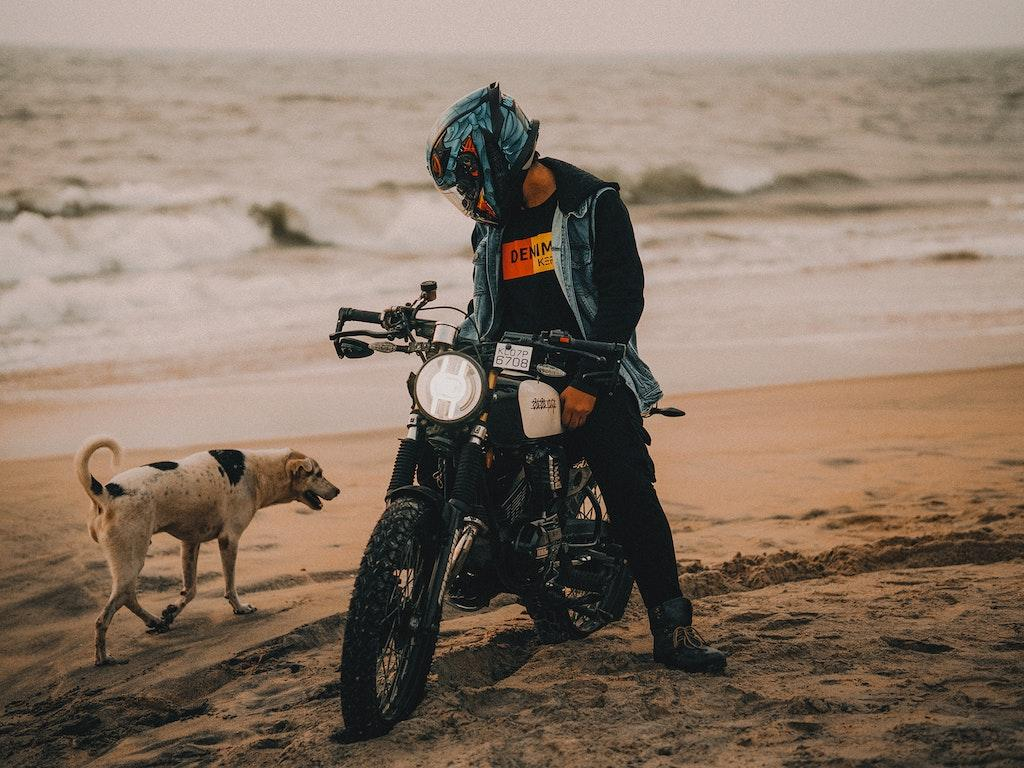helmet: (425, 80, 541, 230)
